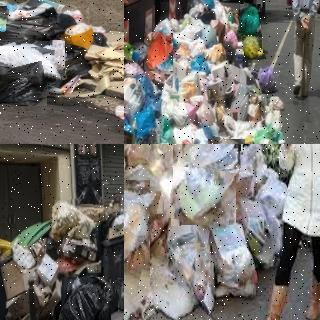Garbage: (165, 203, 227, 314), (169, 144, 239, 227), (124, 176, 155, 290), (210, 225, 258, 297), (0, 35, 66, 81), (58, 274, 114, 320), (0, 65, 48, 110), (0, 15, 62, 47), (49, 200, 94, 244), (178, 144, 241, 168), (144, 33, 173, 71), (238, 3, 263, 38), (124, 76, 144, 114), (256, 66, 278, 93), (243, 33, 263, 60), (116, 277, 124, 311), (0, 4, 8, 31)
